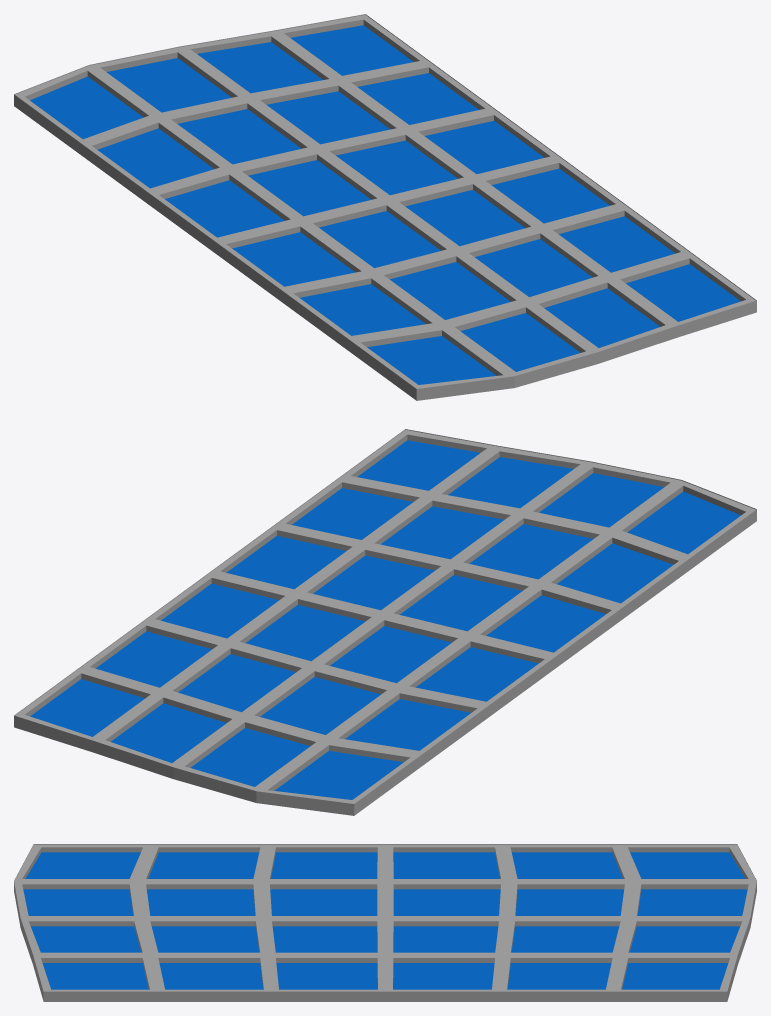
The model's file is solarpanel1.fbx.
3 renders of one model, top to bottom at view 1: azimuth 30°, elevation 25°; view 2: azimuth 150°, elevation 25°; view 3: azimuth 270°, elevation 25°, orthographic. The views are drawn at different scales.
Visible parts, largest first — view 1: pCube1; view 2: pCube1; view 3: pCube1.
Boxes of the visible parts, x1=… form: pCube1: x1=14, y1=14, x2=756, y2=400; pCube1: x1=14, y1=429, x2=756, y2=815; pCube1: x1=14, y1=844, x2=756, y2=1001.
Size of the model in its own units: 4.53 by 0.1487 by 9.65.
